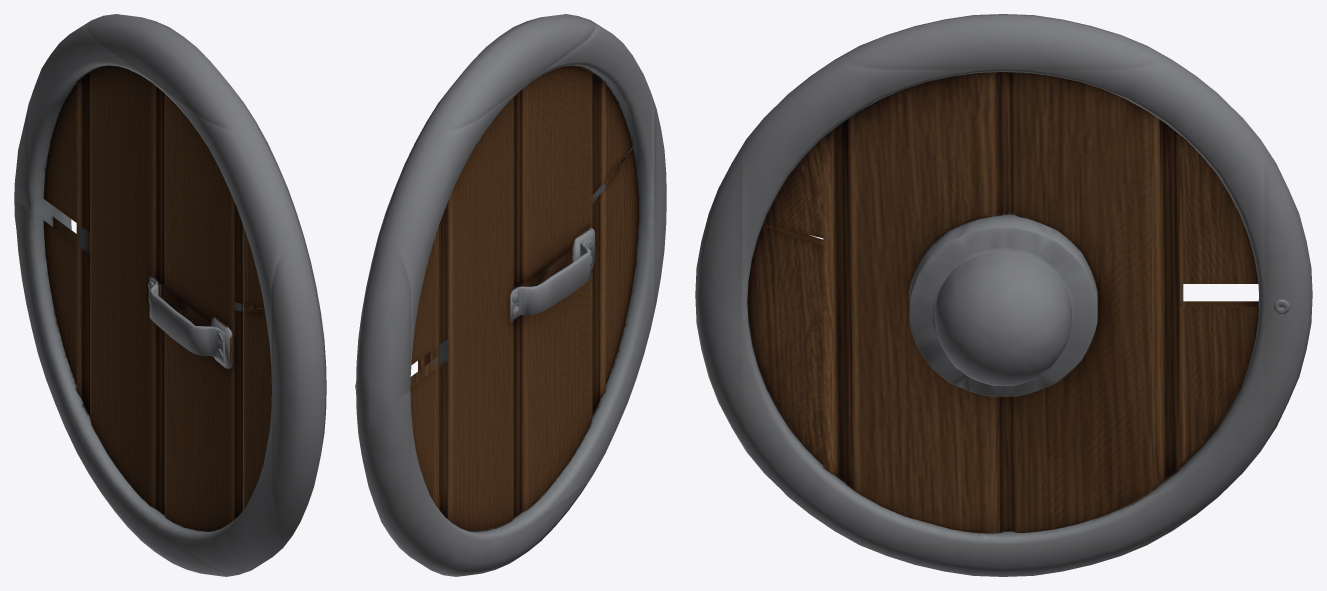
File: round_shield.glb
3 renders of one model, left to right at view 1: azimuth 30°, elevation 25°; view 2: azimuth 150°, elevation 25°; view 3: azimuth 270°, elevation 25°, orthographic. The views are drawn at different scales.
Visible parts, largest first — view 1: tripo_node_db538532-161e-4abf-a94e-1dba1f650561; view 2: tripo_node_db538532-161e-4abf-a94e-1dba1f650561; view 3: tripo_node_db538532-161e-4abf-a94e-1dba1f650561.
Boxes of the visible parts, left/top/right/bottom form: tripo_node_db538532-161e-4abf-a94e-1dba1f650561: left=14, top=14, right=326, bottom=576; tripo_node_db538532-161e-4abf-a94e-1dba1f650561: left=355, top=14, right=666, bottom=576; tripo_node_db538532-161e-4abf-a94e-1dba1f650561: left=695, top=14, right=1312, bottom=576.
Bounding box in the file's own units: 0.2559 × 0.998 × 0.998.
1 material, 1 textured.
